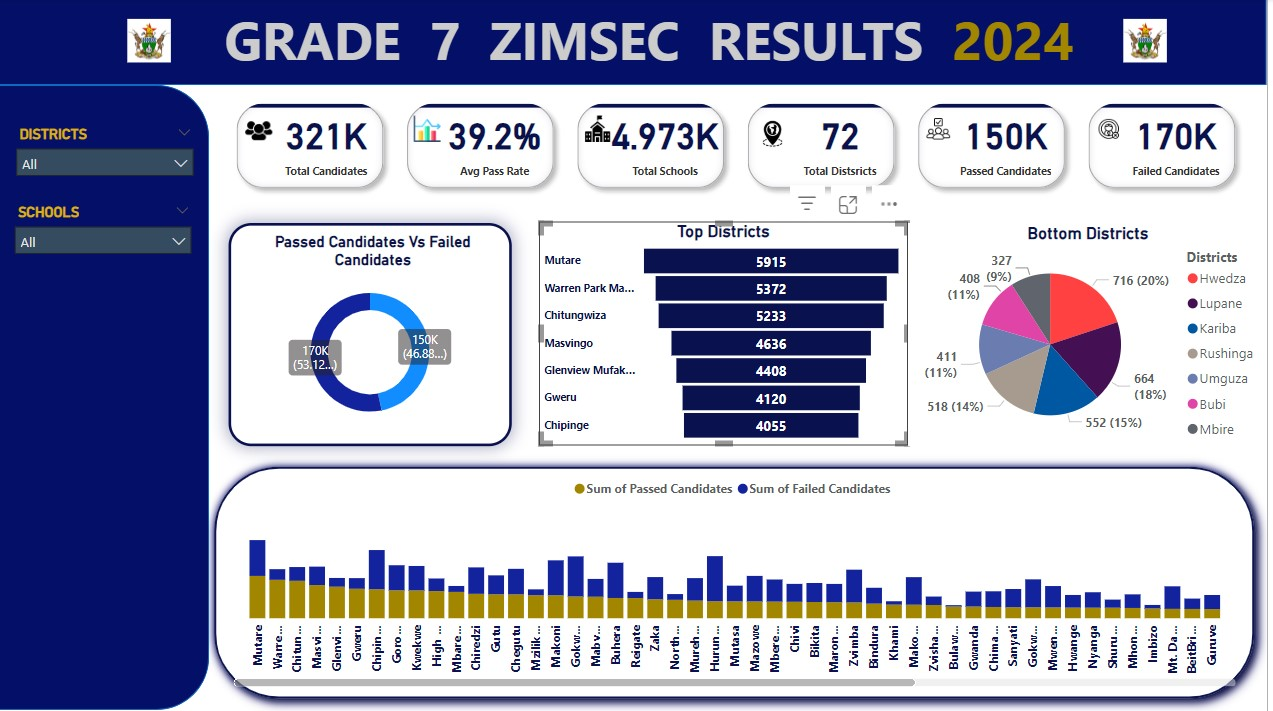

What the dashboard file says about the page in this screenshot:
{"tool":"powerbi","page":{"name":"Page 1","canvas":[1280,720],"ordinal":0},"visuals":[{"type":"shape","box":[0,0,1279.5,87.8],"z":0},{"type":"textbox","box":[221.9,0,875.5,88.1],"z":1000},{"type":"image","box":[124,8.7,54.4,68.5],"z":2000},{"type":"shape","box":[0,88.1,212.1,630.8],"z":3000},{"type":"slicer","fields":{"Values":["Table 1.Districts"]},"box":[7.6,124.2,198.4,84.8],"z":4000},{"type":"image","box":[1128.9,8.7,54.4,68.5],"z":5000},{"type":"slicer","fields":{"Values":["Table 1.Name of school"]},"box":[6.6,202.3,197.9,84.7],"z":6000},{"type":"cardVisual","fields":{"Data":["Sum(Table 1.Candidates)","Table 1.Avg Pass Rate","Table 1.Number of schools","Table 1.Number of Districts","Sum(Table 1.Pass)","Sum(Table 1.Failed Candidates)"]},"box":[222.1,89.1,1046.9,119.9],"z":7000},{"type":"donutChart","title":"Passed Candidates Vs Failed Candidates","fields":{"Y":["Sum(Table 1.Passed Candidates)","Sum(Table 1.Failed Candidates)"]},"box":[231.7,227.1,286.2,225.6],"z":8000},{"type":"shape","box":[204.5,460.8,1075.5,259.5],"z":9000},{"type":"columnChart","fields":{"Category":["Table 1.Districts"],"Y":["Sum(Table 1.Passed Candidates)","Sum(Table 1.Failed Candidates)"]},"box":[232,476.2,1021.6,224.3],"z":10000},{"type":"funnel","title":"Top Districts","fields":{"Category":["Table 1.Districts"],"Y":["Sum(Table 1.Passed Candidates)"]},"box":[545.1,225.6,372.5,225.6],"z":11000},{"type":"pieChart","title":"Bottom Districts","fields":{"Category":["Table 1.Districts"],"Y":["Sum(Table 1.Passed Candidates)"]},"box":[916.9,227.3,363.3,225.1],"z":12000}]}

Visuals, with their boxes in screenshot pixels (x1, y1, x2, y2), scaled from the page's 1280x720 canvas onto the 1273x711 screenshot:
shape: 0/0/1272/87
textbox: 221/0/1091/87
image: 123/9/177/76
shape: 0/87/211/710
slicer - Table 1.Districts: 8/123/205/206
image: 1123/9/1177/76
slicer - Table 1.Name of school: 7/200/203/283
cardVisual - Sum(Table 1.Candidates) x Table 1.Avg Pass Rate: 221/88/1262/206
"Passed Candidates Vs Failed Candidates" donutChart: 230/224/515/447
shape: 203/455/1272/710
columnChart - Table 1.Districts x Sum(Table 1.Passed Candidates): 231/470/1247/692
"Top Districts" funnel: 542/223/913/446
"Bottom Districts" pieChart: 912/224/1272/447
